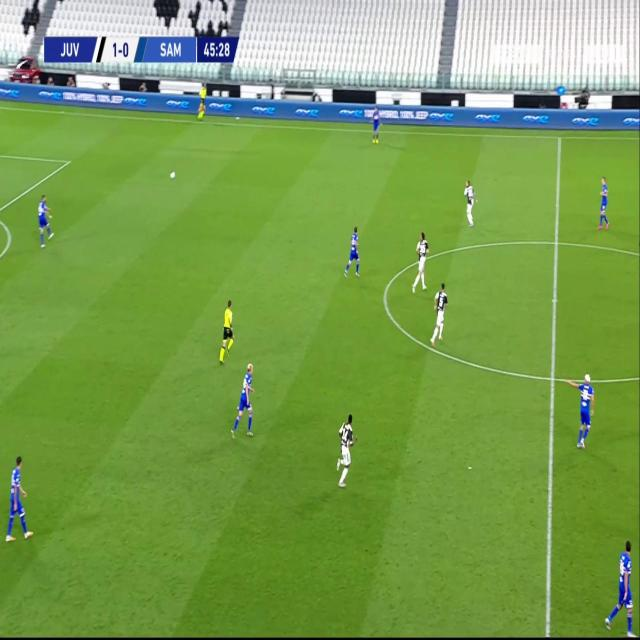ball: (169, 168, 176, 180)
player: (604, 537, 635, 634), (4, 452, 32, 545), (231, 361, 256, 439), (334, 410, 356, 490), (573, 370, 595, 449), (430, 281, 448, 345), (218, 297, 235, 363), (343, 224, 362, 280), (35, 192, 54, 248), (412, 231, 429, 293), (596, 174, 610, 231), (462, 178, 478, 227), (370, 106, 382, 144), (197, 80, 207, 121)
